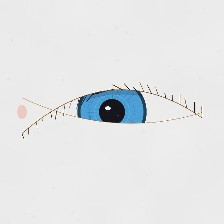hemorrhage_spot: (56, 89, 155, 168)
